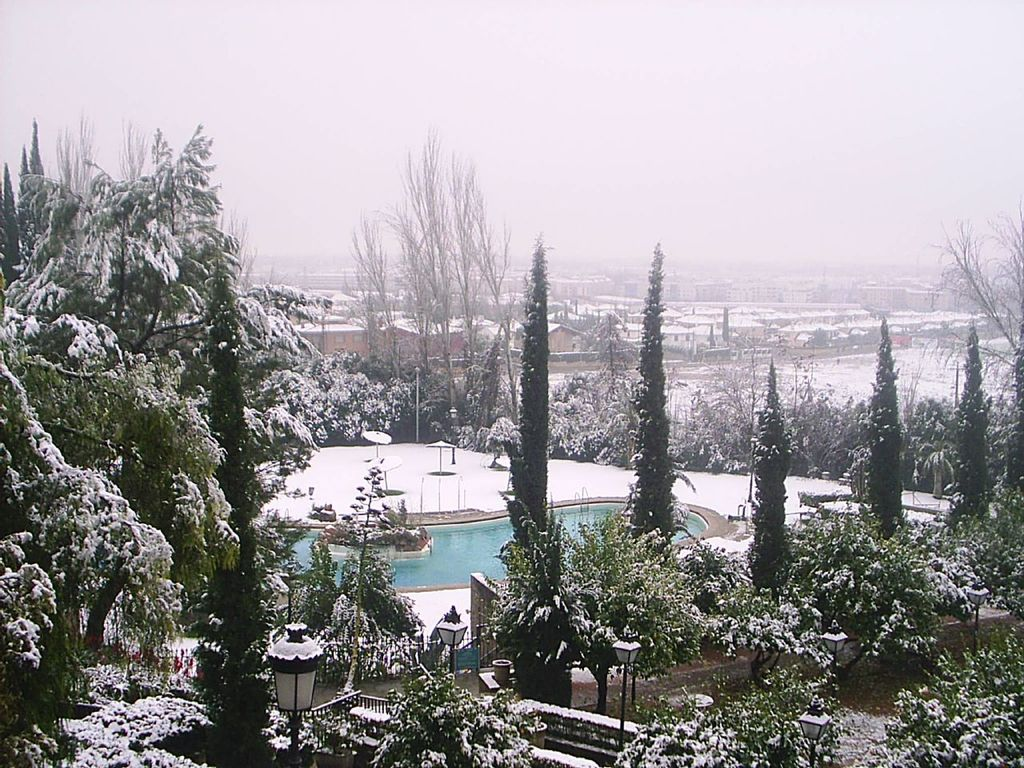Tree: (344, 204, 1023, 767), (0, 115, 426, 767), (0, 312, 262, 767), (328, 130, 510, 447), (184, 228, 279, 767), (603, 239, 686, 590), (509, 240, 550, 553), (295, 340, 395, 443)
